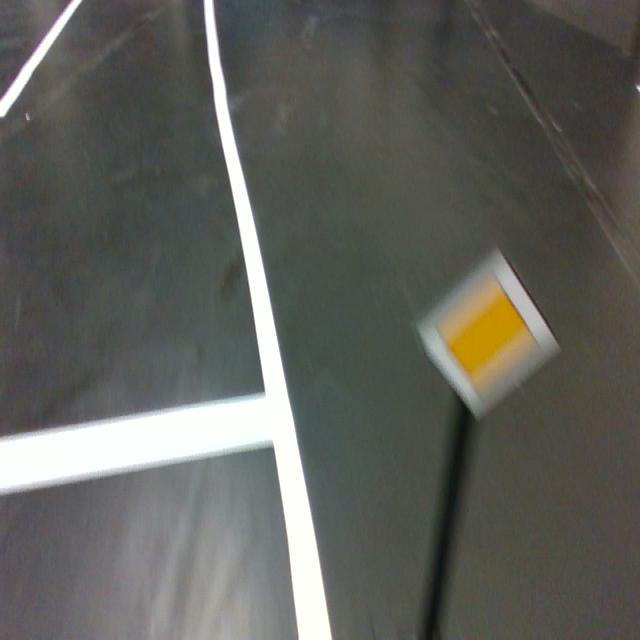priority-sign: (413, 244, 563, 424)
